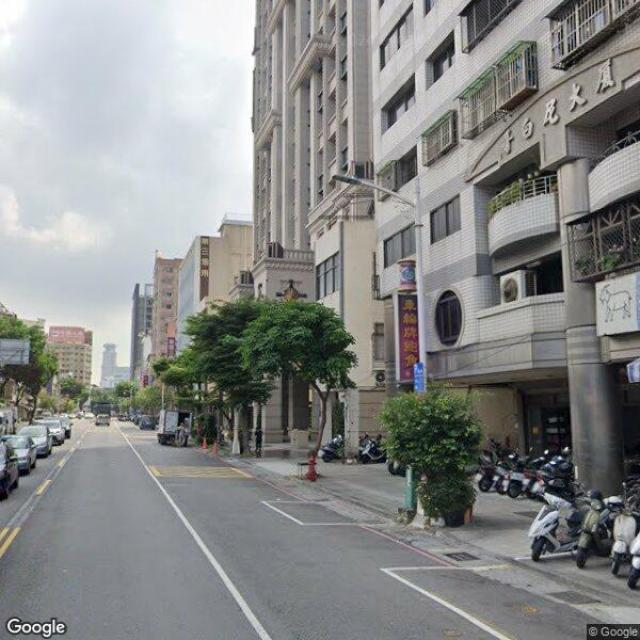Legalparking: (320, 420, 640, 639)
